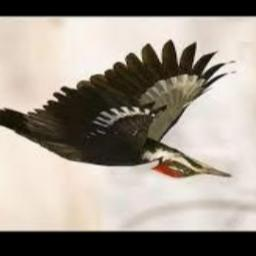Woodpecker: (0, 40, 237, 179)
